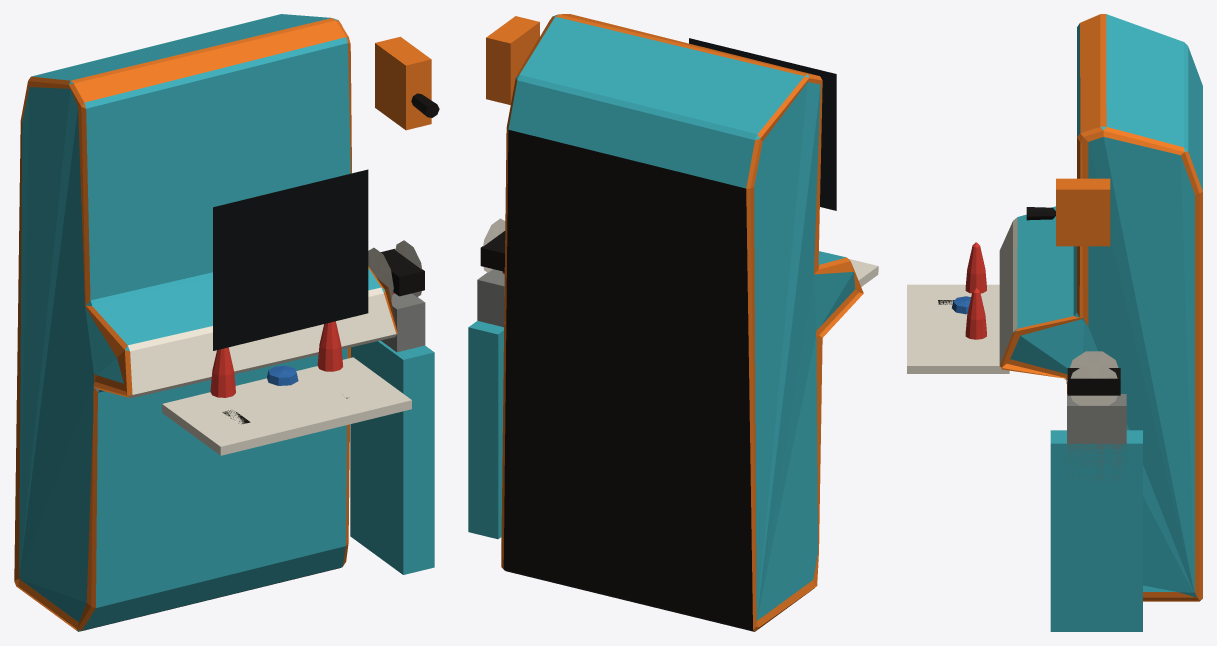
The model's file is game_machine.glb.
3 renders of one model, left to right at view 1: azimuth 30°, elevation 25°; view 2: azimuth 150°, elevation 25°; view 3: azimuth 270°, elevation 25°, orthographic. The views are drawn at different scales.
Visible parts, largest first — view 1: game_machine_cabinet, game_machine_kitbash, game_machine_screen, game_machine_controls; view 2: game_machine_cabinet, game_machine_kitbash, game_machine_screen; view 3: game_machine_cabinet, game_machine_kitbash, game_machine_controls.
Boxes of the visible parts, bbox=[...] form: game_machine_cabinet: bbox=[14, 14, 397, 631]; game_machine_kitbash: bbox=[350, 36, 439, 574]; game_machine_screen: bbox=[213, 169, 368, 350]; game_machine_controls: bbox=[162, 321, 411, 455]; game_machine_cabinet: bbox=[501, 14, 863, 631]; game_machine_kitbash: bbox=[468, 16, 539, 539]; game_machine_screen: bbox=[689, 38, 836, 210]; game_machine_cabinet: bbox=[999, 14, 1202, 601]; game_machine_kitbash: bbox=[1026, 178, 1142, 631]; game_machine_controls: bbox=[907, 242, 1009, 373].
Bounding box in the file's own units: 1.13 × 1.74 × 0.9803.
2 materials, 2 textured.
